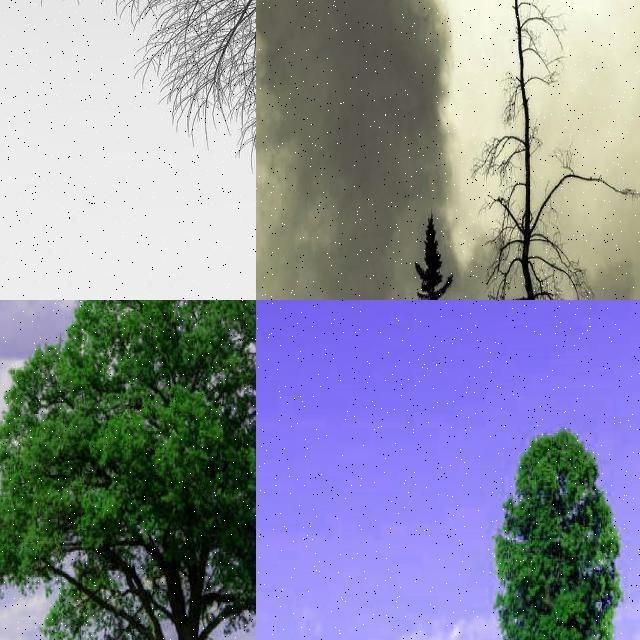tree: (0, 300, 256, 640), (0, 0, 256, 254), (471, 0, 640, 300), (482, 416, 634, 640), (410, 208, 448, 300)
